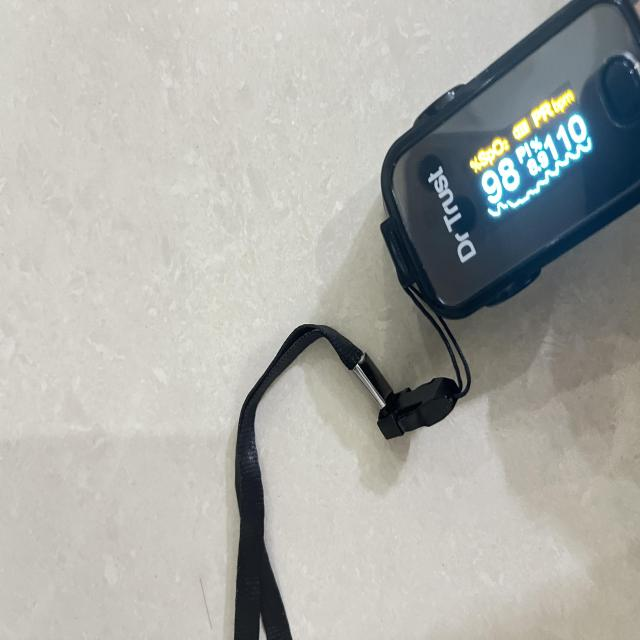spo2: (379, 0, 640, 323)
